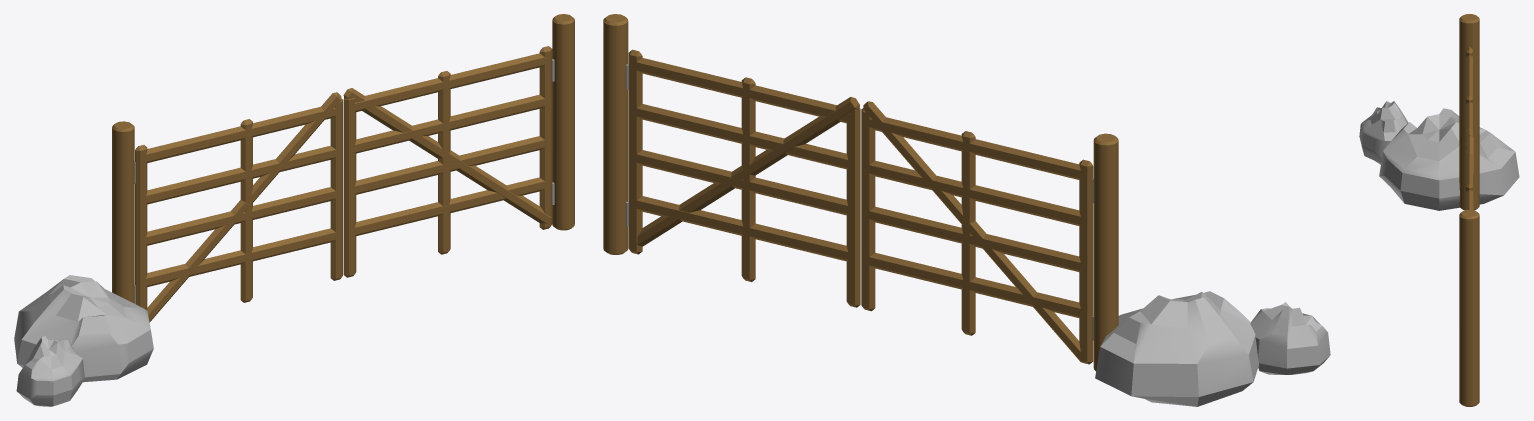
Rendered from Fence-Regina.fbx.
The picture shows the model from 3 angles, left to right: view 1: azimuth 30°, elevation 25°; view 2: azimuth 150°, elevation 25°; view 3: azimuth 270°, elevation 25°; orthographic projection. The views are drawn at different scales.
Parts seen in each view (by area): view 1: pSphere1, pCylinder1, pCylinder2, pSphere2, pCube11, pCube10, pCube13, pCube12, pCube1, pCube14, pCube15, pCube2 (+8 smaller); view 2: pSphere1, pCylinder1, pCylinder2, pSphere2, pCube10, pCube11, pCube3, pCube4, pCube2, pCube14, pCube15, pCube1 (+8 smaller); view 3: pSphere1, pCylinder1, pCylinder2, pSphere2, pCube1, pCube12, pCube10.
Part boxes in pixels (left/top/right/bottom): pSphere1: left=14, top=275, right=153, bottom=382; pCylinder1: left=552, top=14, right=574, bottom=230; pCylinder2: left=112, top=121, right=134, bottom=303; pSphere2: left=16, top=336, right=84, bottom=406; pCube11: left=147, top=92, right=341, bottom=322; pCube10: left=343, top=88, right=551, bottom=223; pCube13: left=349, top=94, right=549, bottom=153; pCube12: left=352, top=53, right=549, bottom=111; pCube1: left=140, top=106, right=335, bottom=162; pCube14: left=349, top=136, right=549, bottom=194; pCube15: left=349, top=177, right=549, bottom=235; pCube2: left=141, top=145, right=335, bottom=204; pSphere1: left=1095, top=291, right=1259, bottom=406; pCylinder1: left=603, top=14, right=628, bottom=254; pCylinder2: left=1093, top=133, right=1118, bottom=371; pSphere2: left=1250, top=302, right=1330, bottom=374; pCube10: left=637, top=97, right=859, bottom=246; pCube11: left=863, top=101, right=1084, bottom=362; pCube3: left=863, top=206, right=1086, bottom=271; pCube4: left=863, top=253, right=1086, bottom=317; pCube2: left=863, top=160, right=1086, bottom=225; pCube14: left=633, top=150, right=853, bottom=215; pCube15: left=632, top=196, right=853, bottom=261; pCube1: left=869, top=117, right=1087, bottom=180; pSphere1: left=1379, top=108, right=1519, bottom=210; pCylinder1: left=1459, top=210, right=1479, bottom=406; pCylinder2: left=1459, top=14, right=1479, bottom=210; pSphere2: left=1359, top=101, right=1408, bottom=164; pCube1: left=1466, top=55, right=1472, bottom=130; pCube12: left=1466, top=150, right=1472, bottom=209; pCube10: left=1466, top=135, right=1473, bottom=209.
Bounding box in the file's own units: 58.93 × 20.7 × 14.97.
